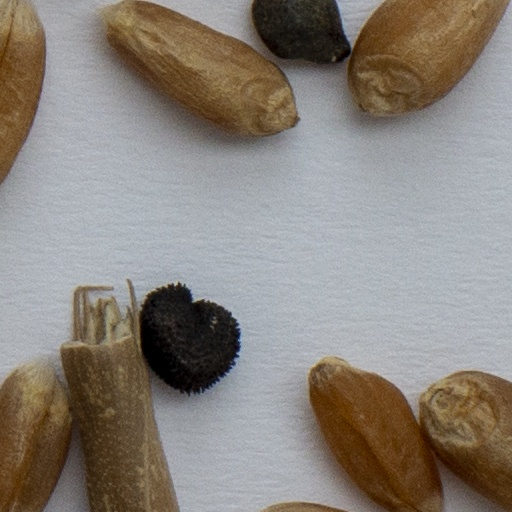Peel-poly: (60, 288, 178, 511)
